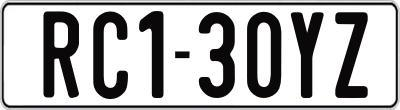0: (247, 10, 286, 99)
1: (138, 8, 167, 97)
3: (198, 11, 236, 99)
C: (93, 10, 132, 101)
R: (44, 11, 82, 99)
Y: (289, 12, 326, 104)
Z: (333, 10, 366, 101)
